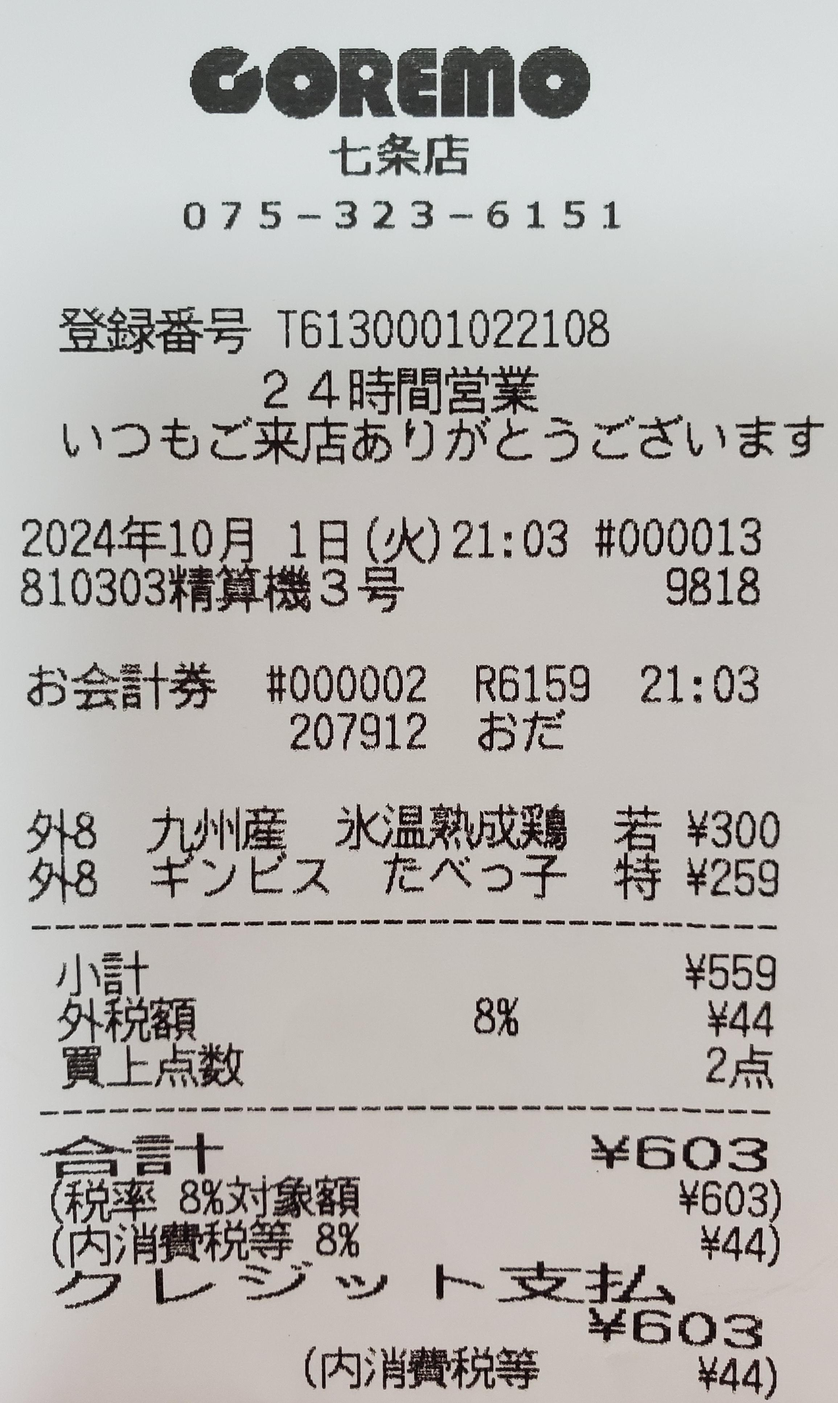TEL: (181, 189, 638, 268)
date: (15, 506, 361, 562)
total: (628, 1116, 799, 1175)
